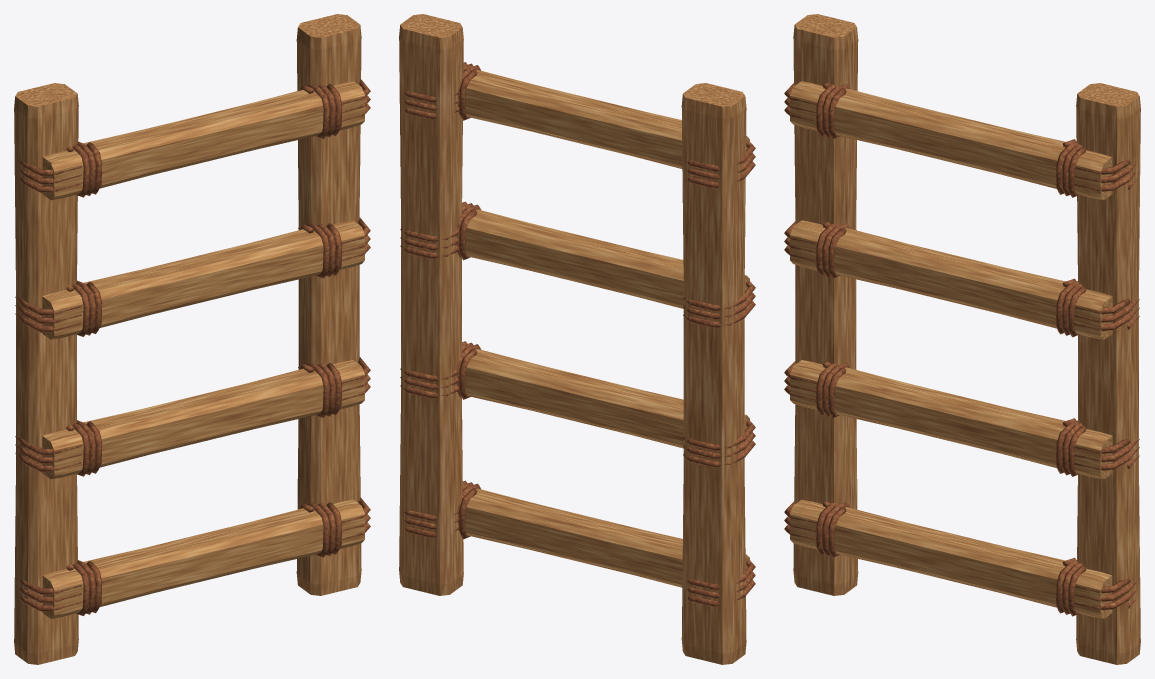
File: Escada_de_Junco_Jogo_1K.glb
The picture shows the model from 3 angles, left to right: view 1: azimuth 30°, elevation 25°; view 2: azimuth 150°, elevation 25°; view 3: azimuth 330°, elevation 25°; orthographic projection.
Parts seen in each view (by area): view 1: Escada de Junco · produção; view 2: Escada de Junco · produção; view 3: Escada de Junco · produção.
Boxes of the visible parts, x1=… form: Escada de Junco · produção: x1=14, y1=14, x2=370, y2=664; Escada de Junco · produção: x1=399, y1=14, x2=755, y2=664; Escada de Junco · produção: x1=784, y1=14, x2=1140, y2=664.
Bounding box in the file's own units: 0.6336 × 1 × 0.1193.
1 material, 1 textured.
